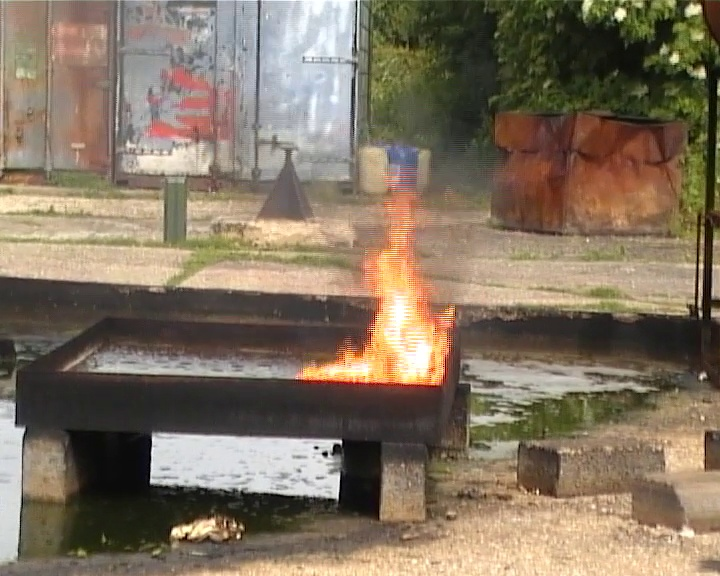fire: (306, 187, 443, 383)
